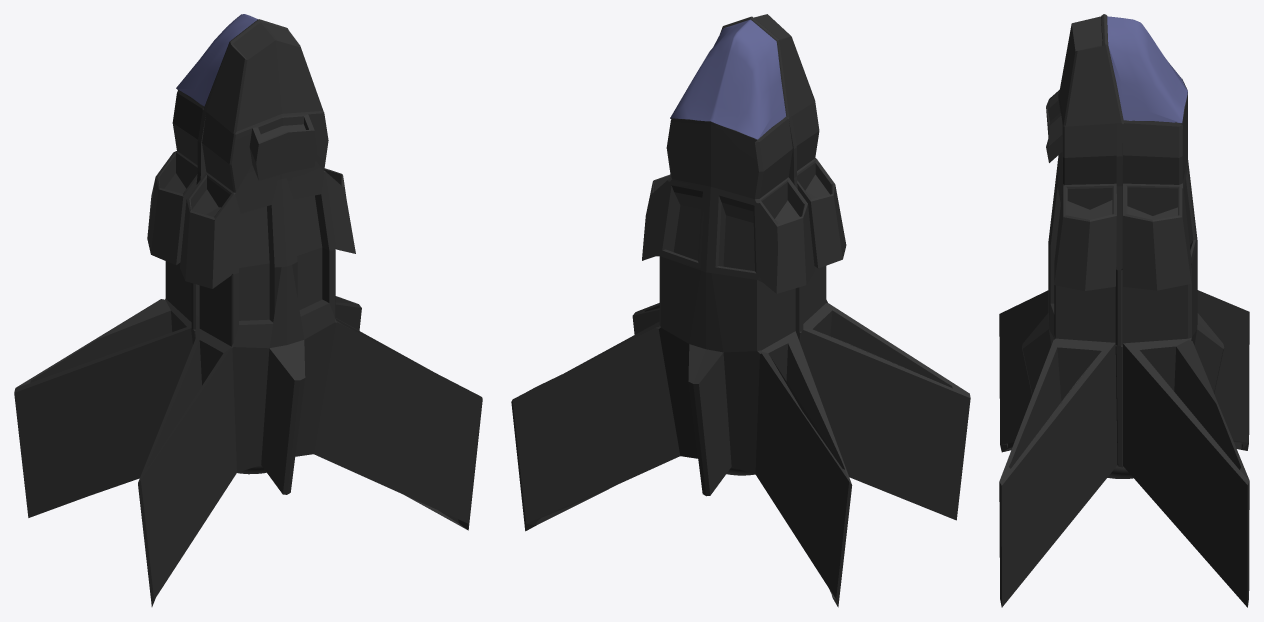
File: Ships03.fbx
3 views of the same model, side by side, from view 1: azimuth 30°, elevation 25°; view 2: azimuth 150°, elevation 25°; view 3: azimuth 270°, elevation 25° (orthographic). The views are drawn at different scales.
Parts seen in each view (by area): view 1: Cylinder; view 2: Cylinder; view 3: Cylinder.
Part boxes in pixels (x1,y1,x2,y2): Cylinder: [14, 14, 482, 606]; Cylinder: [511, 14, 970, 607]; Cylinder: [999, 14, 1249, 607].
Size of the model in its own units: 1259 by 1774 by 779.
